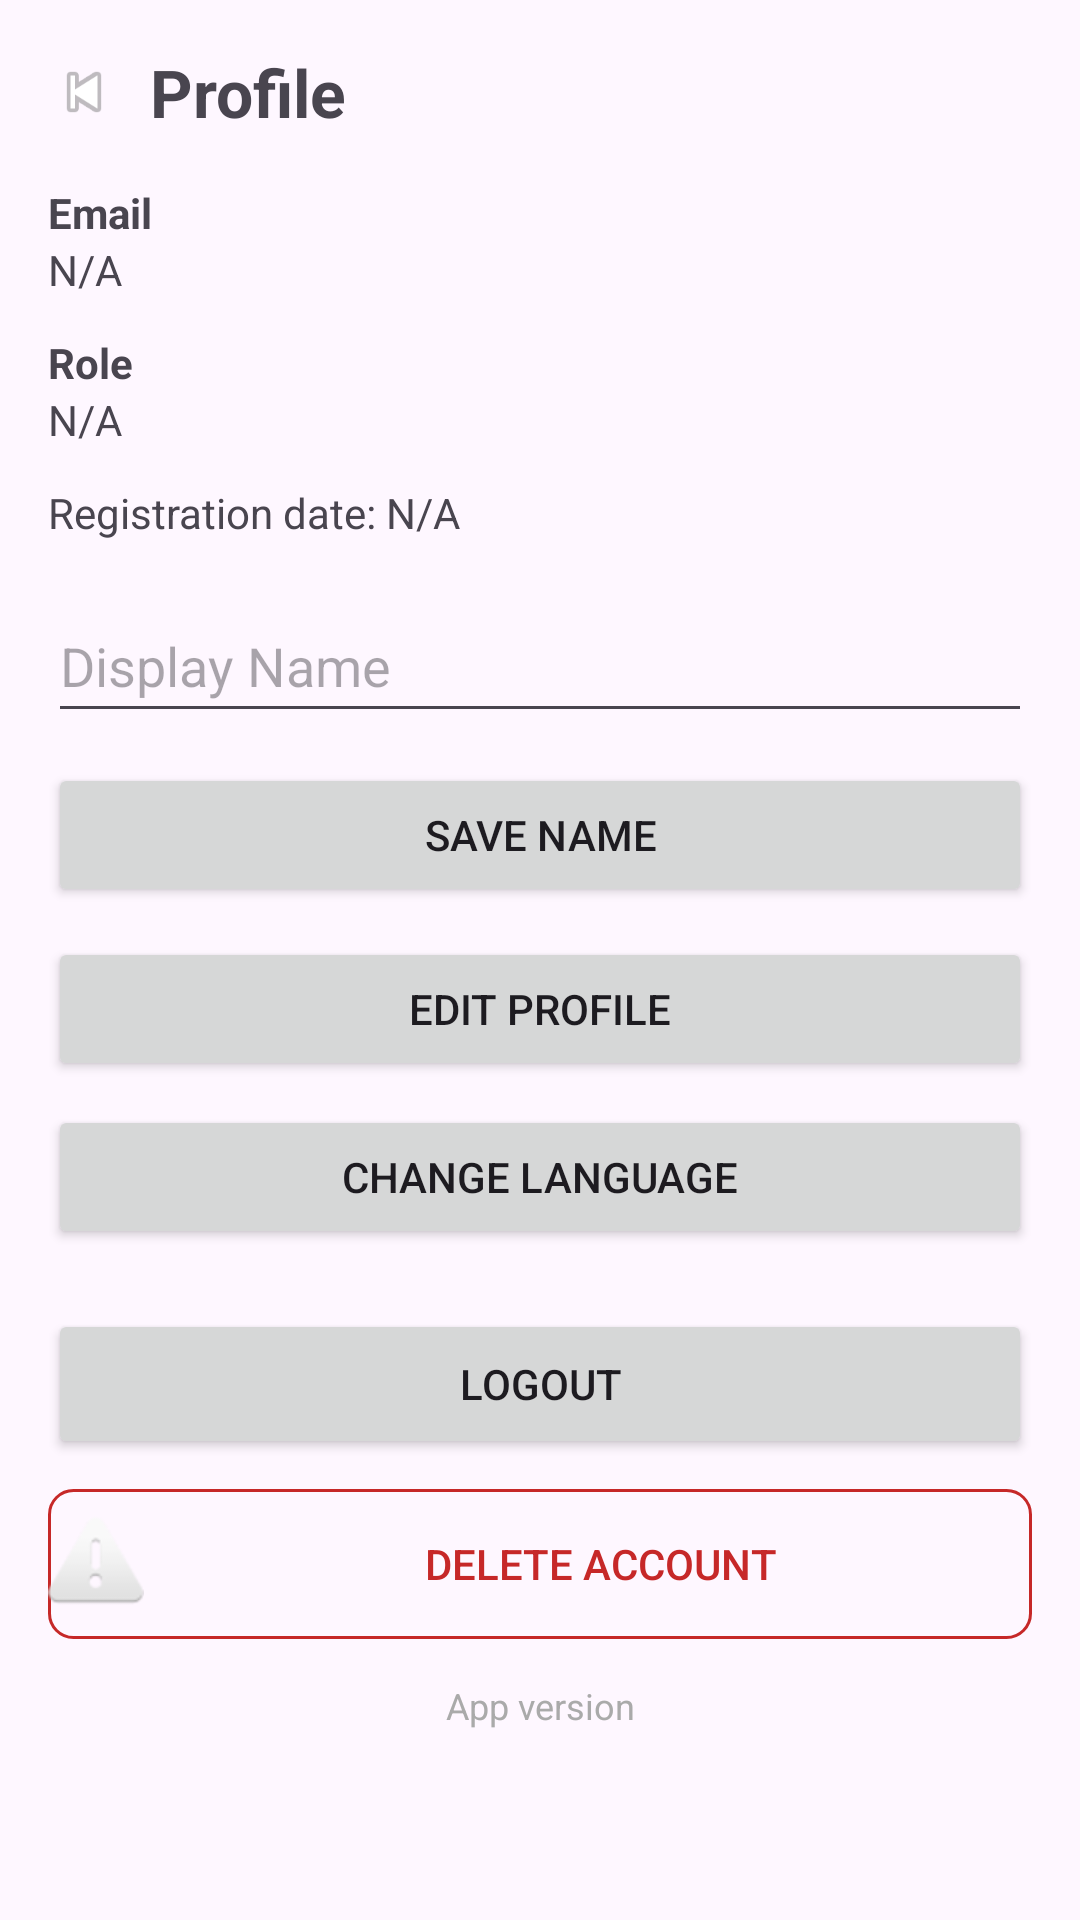

Point at icon controls on the screen. Image size 1080px×1920px, points as (x,y).
previous: (84,92)
